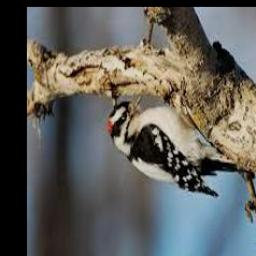Woodpecker: (109, 93, 255, 196)
